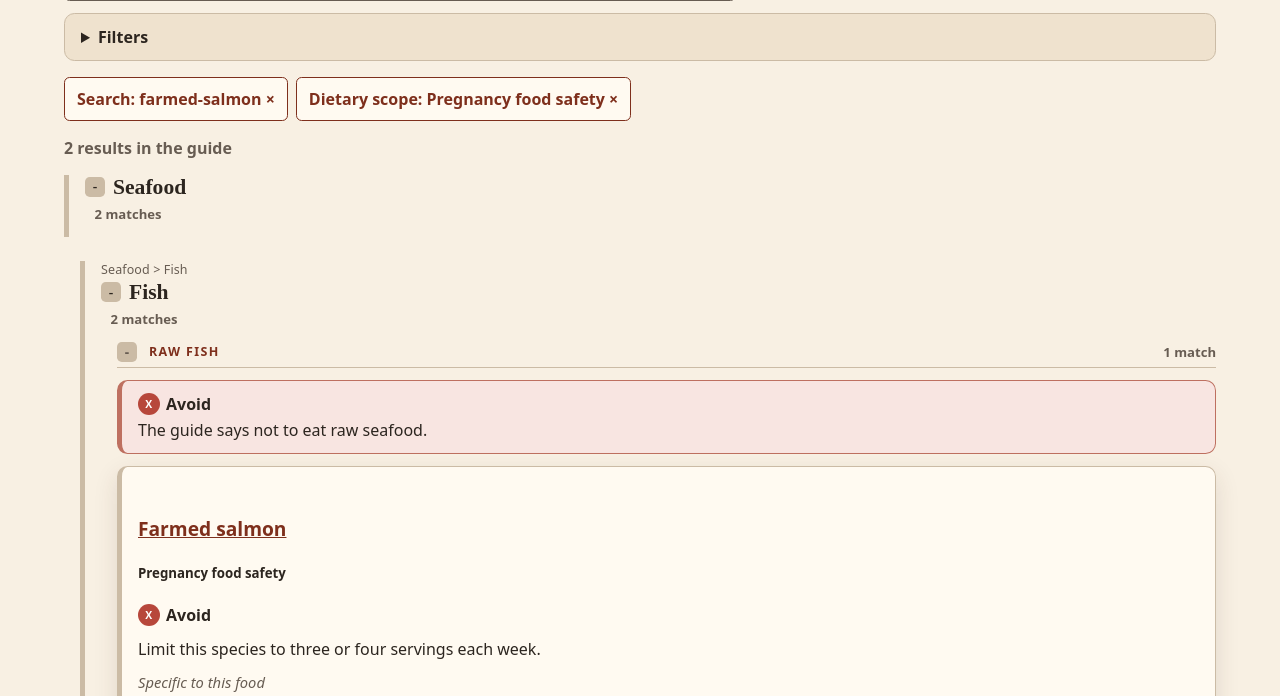
Scenario: browsing a category with a preparation dimension › reopens every band when the search changes
The width and height of the screenshot is (1280, 696).
(page scrolled)
Click the button named "Raw Fish," at (127, 352), box [117,342,137,362]
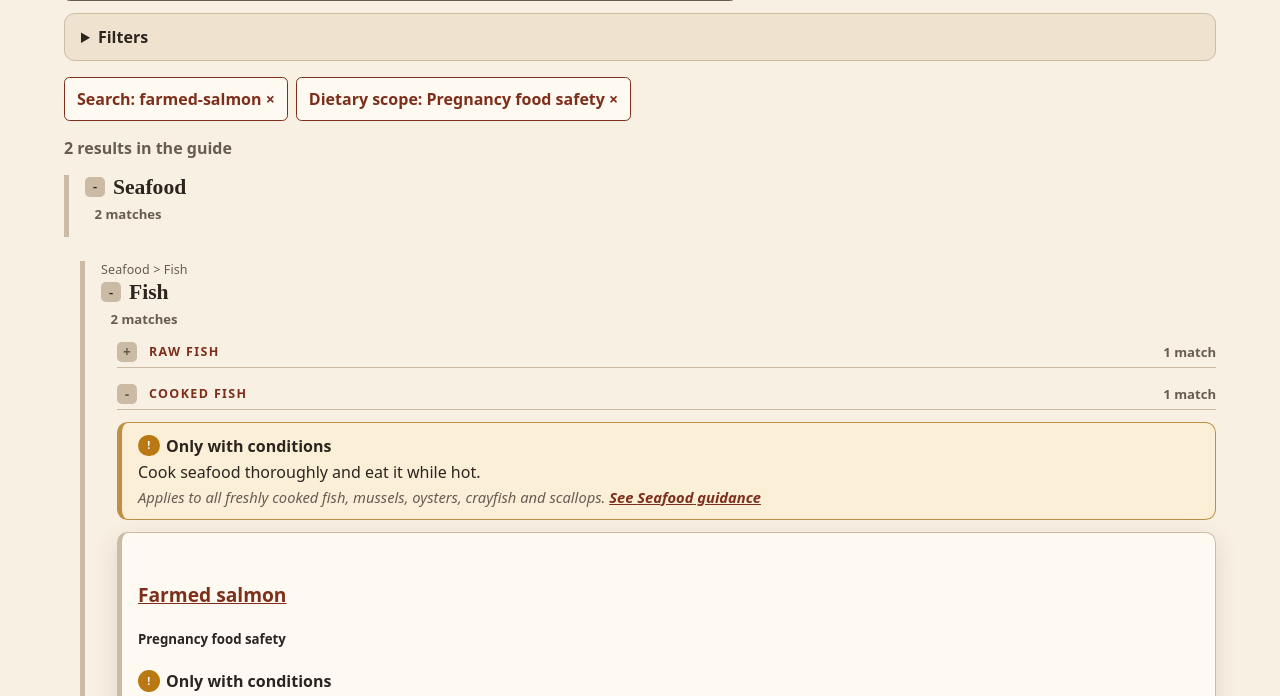
Click the button named "Cooked Fish," at (127, 394), box [117,384,137,404]
(page scrolled)
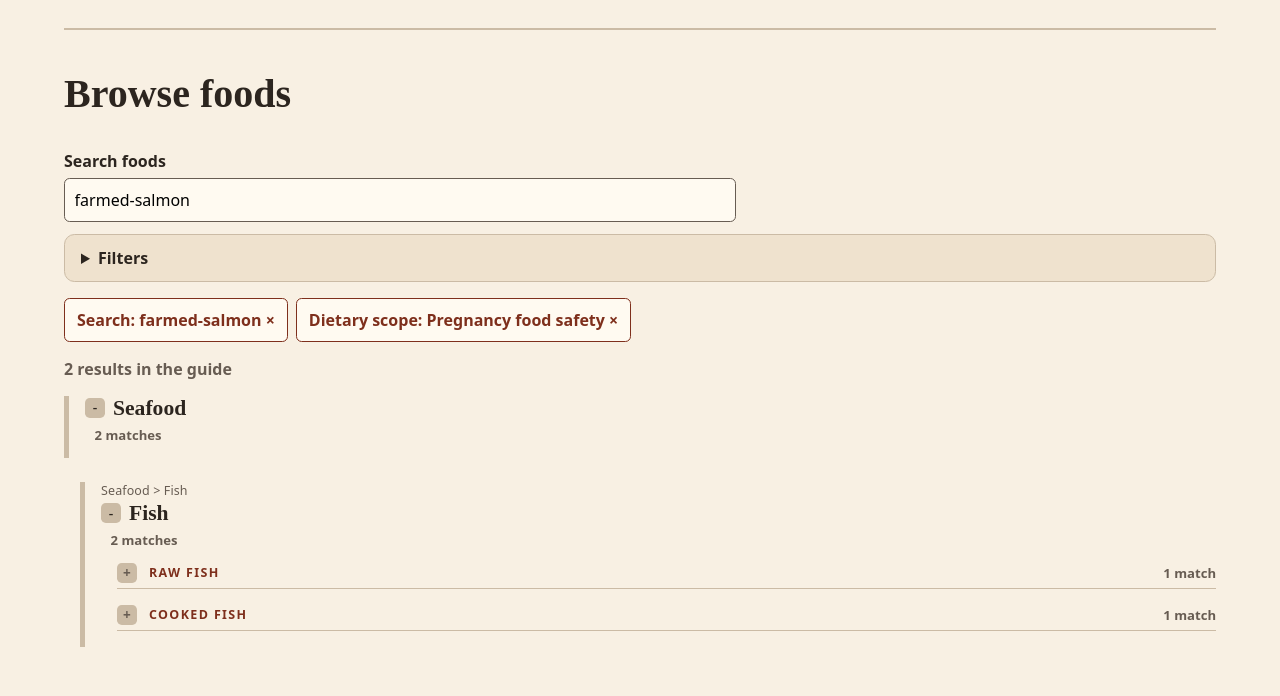
Replace the text in the search field labelled "Search foods" with "farmed salmon" at (400, 200), box [64,178,736,222]
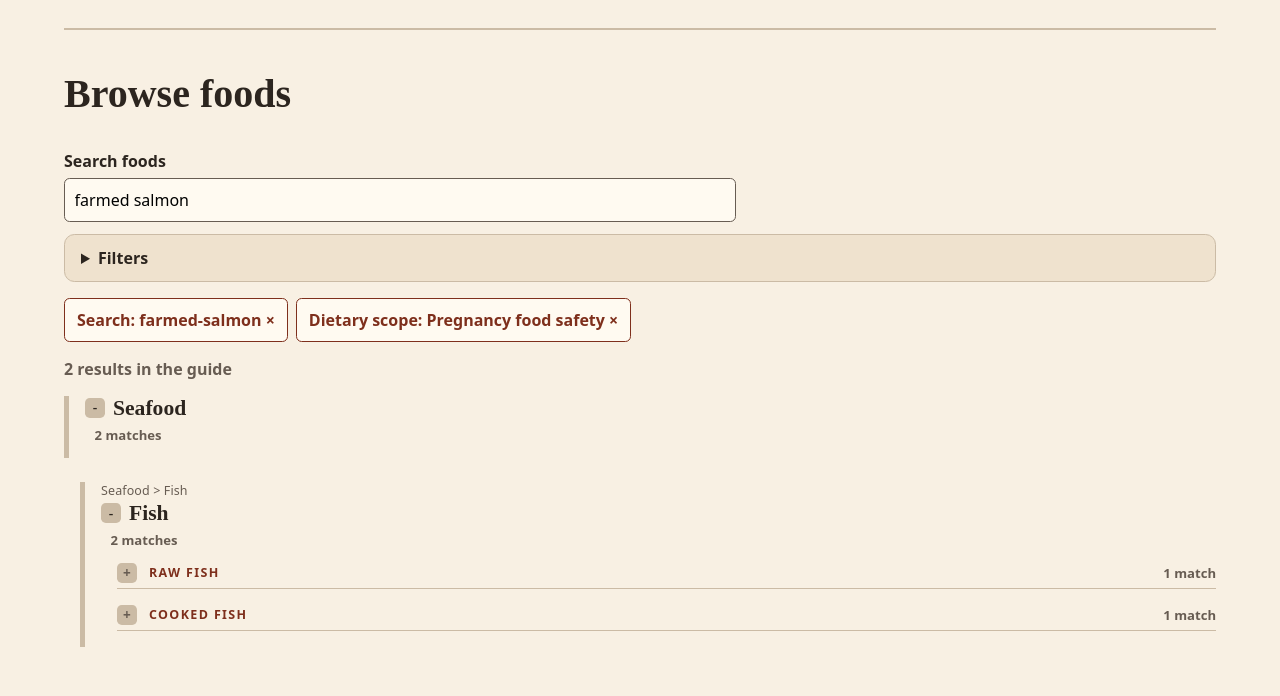
Submit the form labelled "Search foods", box [64,150,736,222]
(page scrolled)
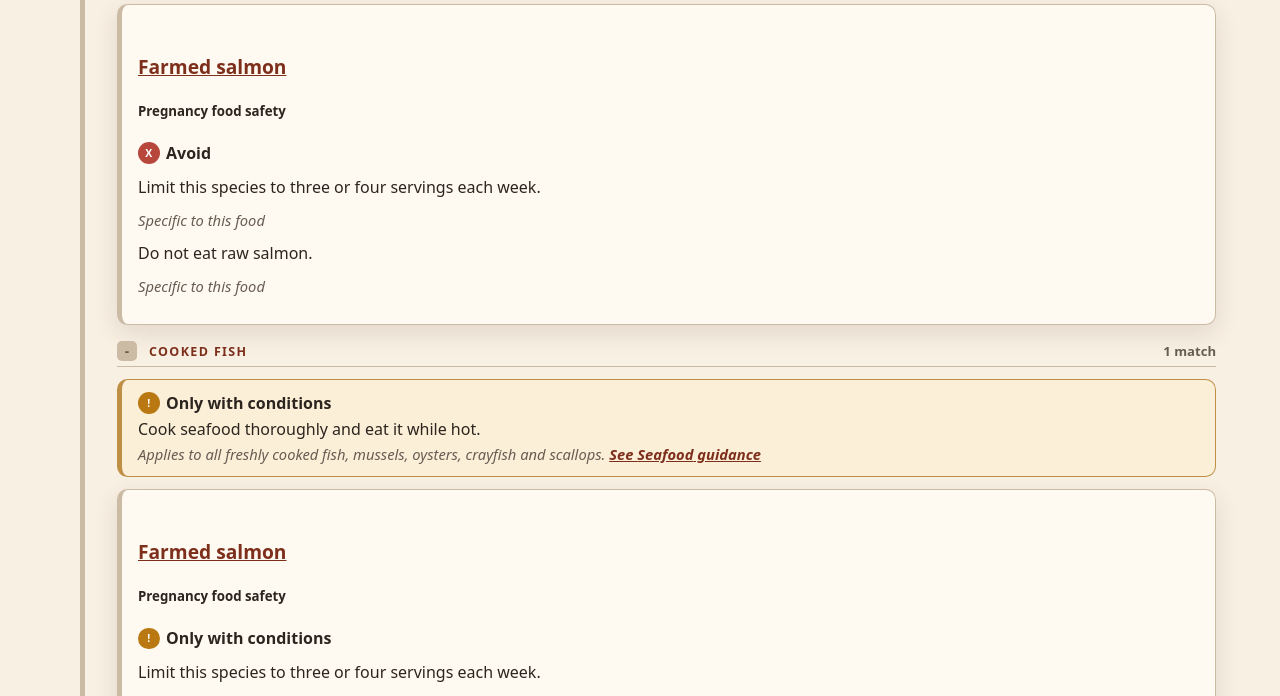
Expected: the button named "Cooked Fish," is expanded, [117,341,137,361]
